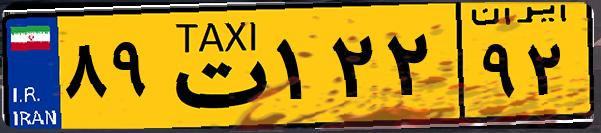1: (270, 28, 330, 110)
2: (385, 28, 445, 110), (330, 28, 385, 110), (525, 38, 570, 115)
8: (57, 26, 110, 100)
9: (475, 38, 525, 113), (110, 28, 158, 98)
ت: (158, 12, 270, 120)
